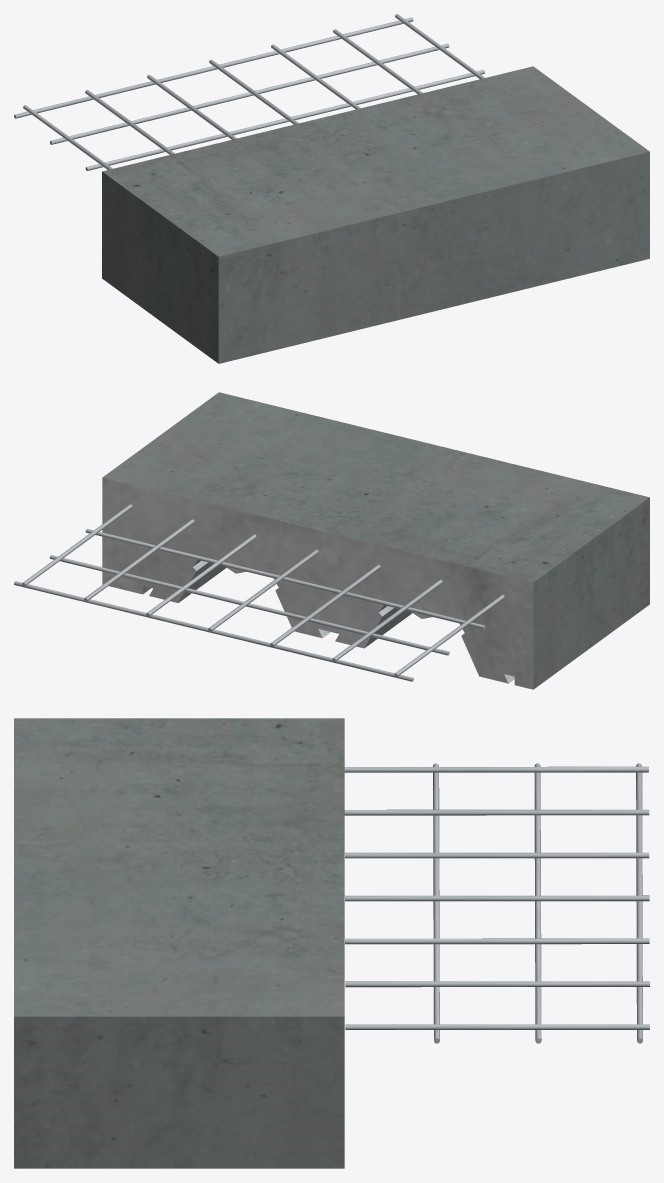
3 renders of one model, top to bottom at view 1: azimuth 30°, elevation 25°; view 2: azimuth 150°, elevation 25°; view 3: azimuth 270°, elevation 25°, orthographic. The views are drawn at different scales.
Parts seen in each view (by area): view 1: コンクリート - 03, 金属 - 亜鉛; view 2: コンクリート - 03, 石材 - 大理石 グレー, 金属 - 亜鉛; view 3: コンクリート - 03, 金属 - 亜鉛.
Part boxes in pixels (box(x1,y1,x2,y2)): コンクリート - 03: box(102, 66, 649, 363); 金属 - 亜鉛: box(14, 14, 484, 170); コンクリート - 03: box(103, 392, 649, 689); 石材 - 大理石 グレー: box(102, 477, 533, 689); 金属 - 亜鉛: box(14, 504, 514, 683); コンクリート - 03: box(14, 718, 344, 1168); 金属 - 亜鉛: box(344, 763, 649, 1043).
Bounding box in the file's own units: 0.6953 × 0.165 × 0.6264.
Materials: 4 (3 with a texture image).
